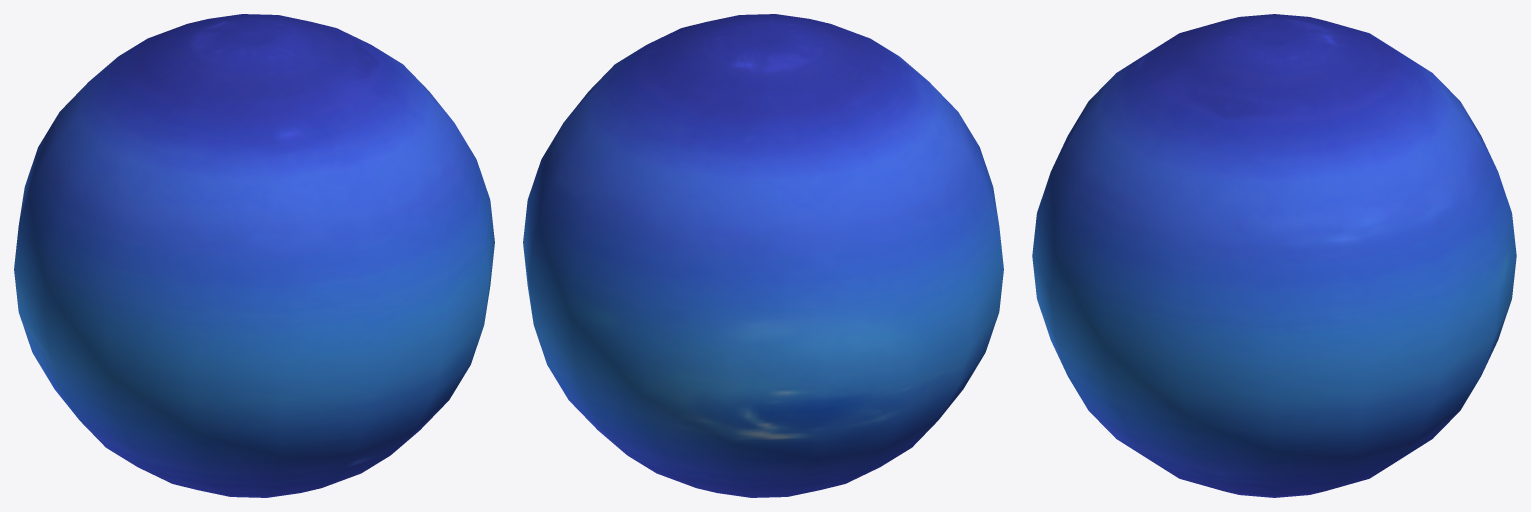
The model's file is Neptune.fbx.
3 views of the same model, side by side, from view 1: azimuth 30°, elevation 25°; view 2: azimuth 150°, elevation 25°; view 3: azimuth 270°, elevation 25° (orthographic).
Visible parts, largest first — view 1: Neptune; view 2: Neptune; view 3: Neptune.
Boxes of the visible parts, x1,y1,x2,y2 form: Neptune: [14, 14, 494, 497]; Neptune: [523, 14, 1003, 497]; Neptune: [1032, 14, 1516, 497].
Size of the model in its own units: 8.17 by 8.13 by 8.17.
